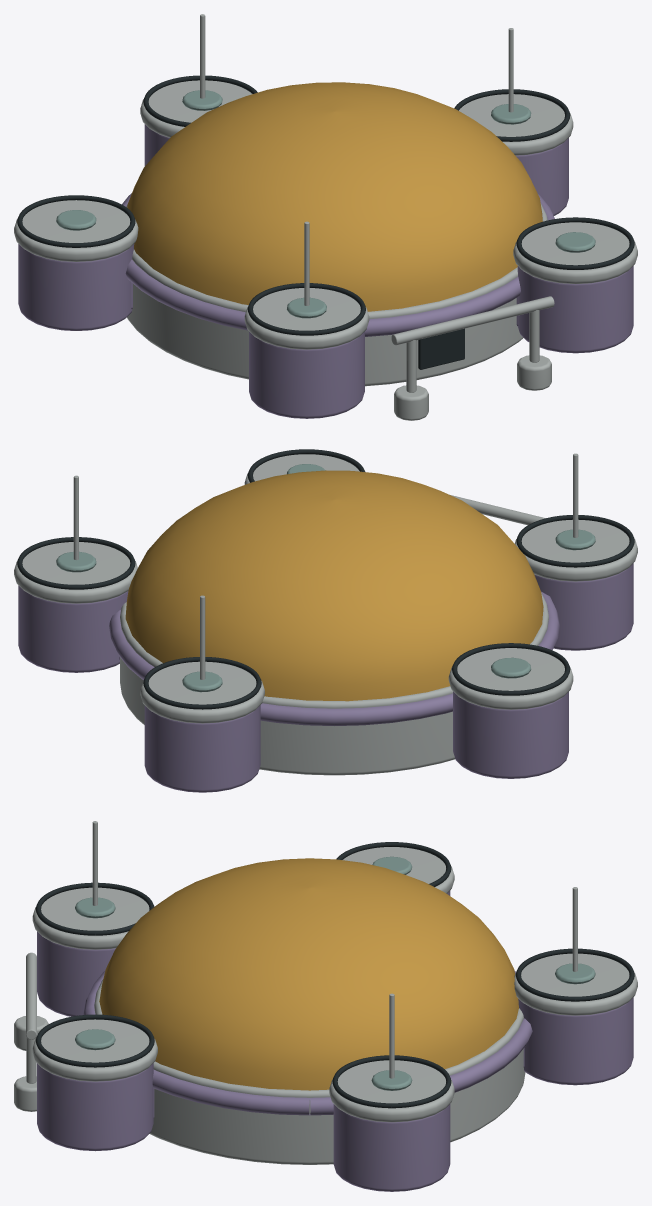
3 views of the same model, one above another, from view 1: azimuth 30°, elevation 25°; view 2: azimuth 150°, elevation 25°; view 3: azimuth 270°, elevation 25° (orthographic).
Parts seen in each view (by area): view 1: CPU gold command dome, CPU central drum, CPU peripheral pod.003, CPU peripheral pod.002, CPU peripheral pod.004, CPU equatorial rim, CPU pod roof.004, CPU pod roof.002, CPU pod roof.003, CPU pod roof, CPU pod roof.001, CPU peripheral pod (+14 smaller); view 2: CPU gold command dome, CPU central drum, CPU peripheral pod.001, CPU peripheral pod.002, CPU peripheral pod, CPU peripheral pod.003, CPU equatorial rim, CPU pod roof.002, CPU pod roof.001, CPU pod roof, CPU pod roof.003, CPU pod rim.002 (+13 smaller); view 3: CPU gold command dome, CPU central drum, CPU peripheral pod, CPU peripheral pod.004, CPU peripheral pod.001, CPU equatorial rim, CPU pod roof.004, CPU pod roof, CPU pod roof.001, CPU pod roof.003, CPU peripheral pod.003, CPU pod roof.002 (+11 smaller).
Boxes of the visible parts, <box> form: CPU gold command dome: <box>127,82,542,311</box>; CPU central drum: <box>126,203,547,386</box>; CPU peripheral pod.003: <box>249,331,364,418</box>; CPU peripheral pod.002: <box>18,244,134,330</box>; CPU peripheral pod.004: <box>517,266,633,353</box>; CPU equatorial rim: <box>122,193,554,336</box>; CPU pod roof.004: <box>513,222,637,284</box>; CPU pod roof.002: <box>14,200,138,261</box>; CPU pod roof.003: <box>244,288,369,349</box>; CPU pod roof: <box>459,94,573,155</box>; CPU pod roof.001: <box>140,80,252,137</box>; CPU peripheral pod: <box>516,138,568,215</box>; CPU gold command dome: <box>125,470,543,701</box>; CPU central drum: <box>120,592,548,775</box>; CPU peripheral pod.001: <box>144,705,260,792</box>; CPU peripheral pod.002: <box>453,691,568,778</box>; CPU peripheral pod: <box>18,585,128,672</box>; CPU peripheral pod.003: <box>534,563,633,650</box>; CPU equatorial rim: <box>109,592,559,725</box>; CPU pod roof.002: <box>448,648,573,709</box>; CPU pod roof.001: <box>140,661,264,723</box>; CPU pod roof: <box>14,542,137,603</box>; CPU pod roof.003: <box>514,519,637,581</box>; CPU pod rim.002: <box>452,643,570,695</box>; CPU gold command dome: <box>99,858,518,1090</box>; CPU central drum: <box>94,979,525,1164</box>; CPU peripheral pod: <box>333,1104,450,1191</box>; CPU peripheral pod.004: <box>37,1063,153,1151</box>; CPU peripheral pod.001: <box>518,997,633,1085</box>; CPU equatorial rim: <box>83,970,532,1115</box>; CPU pod roof.004: <box>32,1019,157,1081</box>; CPU pod roof: <box>329,1060,454,1122</box>; CPU pod roof.001: <box>514,953,637,1015</box>; CPU pod roof.003: <box>32,887,149,949</box>; CPU peripheral pod.003: <box>37,931,115,1016</box>; CPU pod roof.002: <box>342,847,454,893</box>.
Size of the model in its own units: 4.32 by 1.42 by 4.28.
